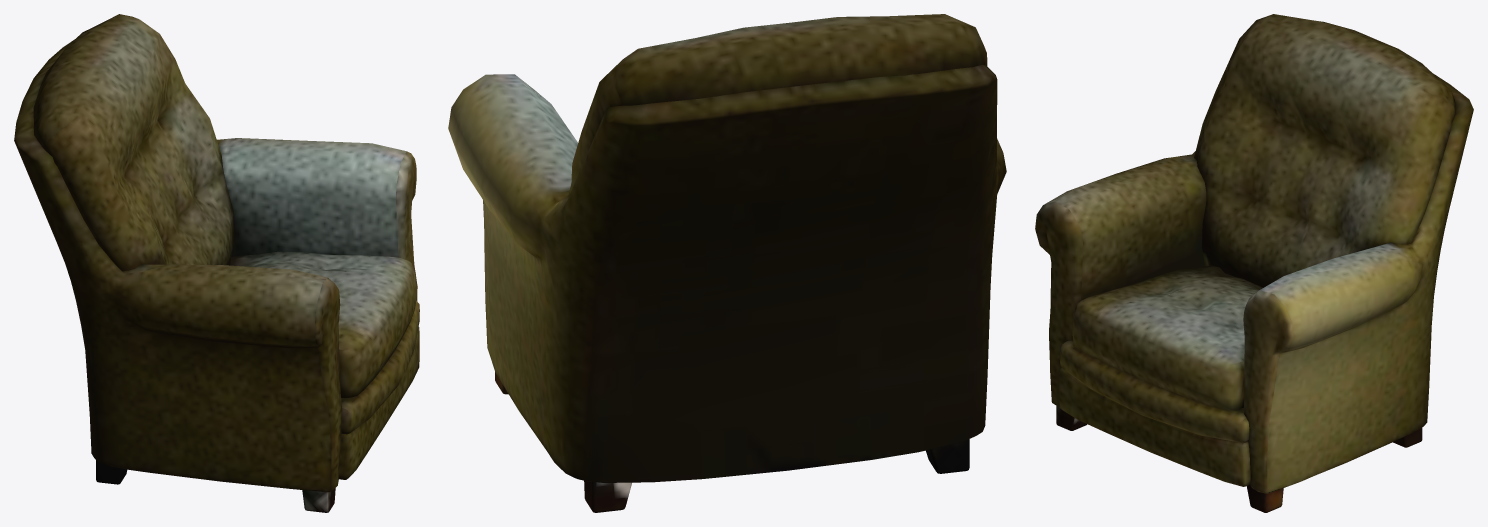
File: armchair.glb
3 views of the same model, side by side, from view 1: azimuth 30°, elevation 25°; view 2: azimuth 150°, elevation 25°; view 3: azimuth 270°, elevation 25° (orthographic). The views are drawn at different scales.
Parts seen in each view (by area): view 1: Object_44, Object_44.004, Object_44.026, Object_44.001, Object_44.003, Object_44.025, Object_44.002, Object_44.027, Object_44.028; view 2: Object_44, Object_44.004, Object_44.030, Object_44.028; view 3: Object_44.004, Object_44, Object_44.026, Object_44.025, Object_44.003, Object_44.002, Object_44.001, Object_44.029.
Part boxes in pixels (box(x1,y1,x2,y2)): Object_44: box(14, 39, 406, 492); Object_44.004: box(33, 14, 234, 271); Object_44.026: box(230, 251, 416, 397); Object_44.001: box(314, 278, 342, 491); Object_44.003: box(341, 300, 419, 434); Object_44.025: box(338, 327, 419, 479); Object_44.002: box(396, 151, 417, 300); Object_44.027: box(302, 488, 335, 512); Object_44.028: box(96, 460, 127, 484); Object_44: box(448, 65, 1006, 482); Object_44.004: box(568, 14, 987, 196); Object_44.030: box(584, 480, 631, 512); Object_44.028: box(926, 439, 969, 473); Object_44.004: box(1194, 14, 1455, 287); Object_44: box(1044, 73, 1473, 493); Object_44.026: box(1072, 265, 1262, 410); Object_44.025: box(1059, 367, 1250, 486); Object_44.003: box(1059, 340, 1249, 442); Object_44.002: box(1243, 290, 1293, 493); Object_44.001: box(1035, 201, 1082, 407); Object_44.029: box(1246, 484, 1283, 512).
Bounding box in the file's own units: 1.51 × 1.31 × 1.51.
Materials: 1 (1 with a texture image).
